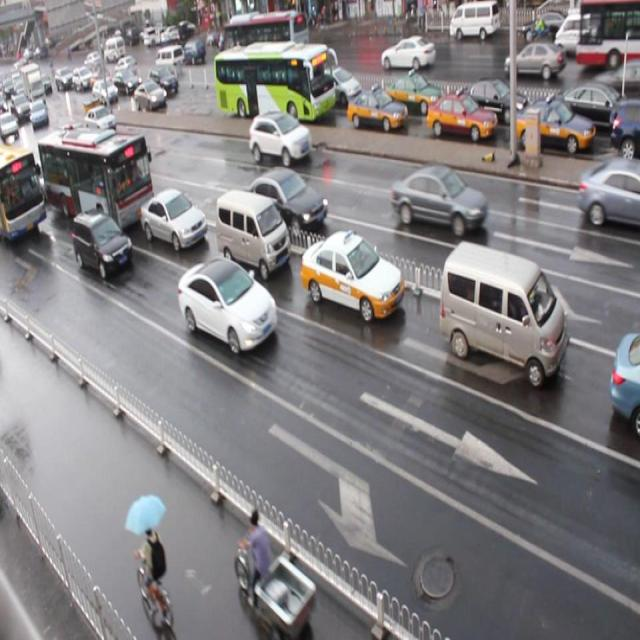car: (178, 258, 278, 354), (300, 229, 403, 321), (391, 163, 487, 240), (244, 165, 328, 236), (546, 81, 640, 137), (514, 101, 594, 160), (578, 157, 640, 230), (72, 206, 133, 279), (140, 188, 208, 252), (426, 91, 498, 145), (249, 111, 312, 170), (608, 330, 640, 433), (458, 79, 526, 125), (345, 89, 407, 134), (383, 72, 439, 116), (314, 65, 361, 106), (610, 99, 640, 161), (22, 160, 61, 204), (134, 81, 167, 111), (86, 107, 118, 137), (150, 68, 178, 96), (112, 70, 140, 94)
truck: (438, 240, 568, 389), (215, 186, 290, 282), (57, 126, 94, 164)
van: (38, 127, 154, 235), (214, 43, 335, 123), (1, 142, 48, 244)
